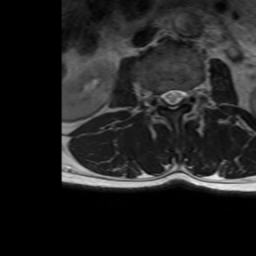CCS_normal: (169, 82, 176, 115)
LFS_normal: (185, 80, 194, 111)
LLS_normal: (176, 82, 185, 109)
RFS_normal: (151, 84, 160, 113)
RLS_stenosis: (160, 84, 169, 110)
